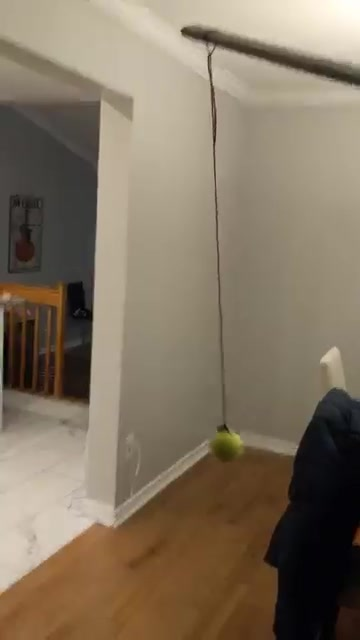tennis_ball: (210, 427, 247, 465)
